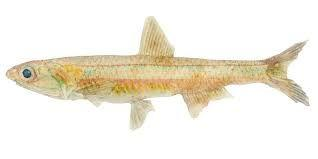Tenpounder: (11, 18, 311, 128)
